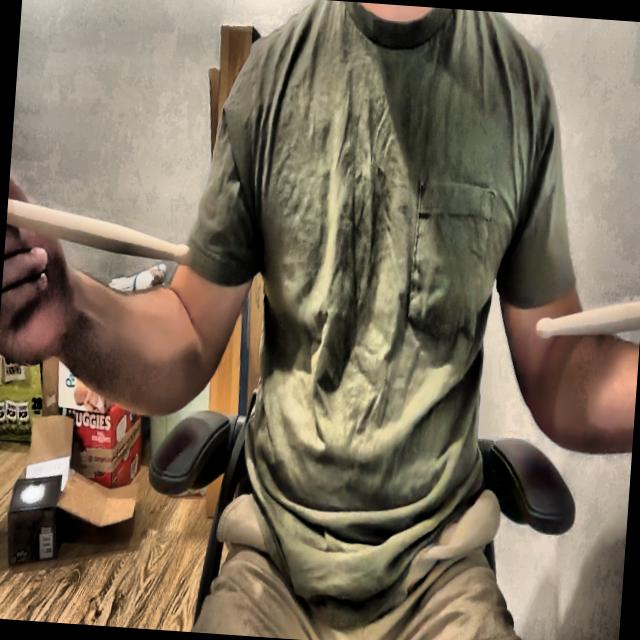Drumstick-Heads: (532, 316, 558, 348), (172, 238, 196, 270)
